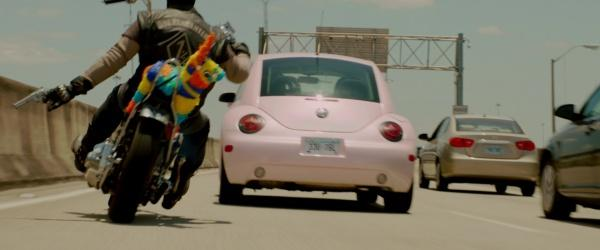Gun: (13, 87, 48, 108)
